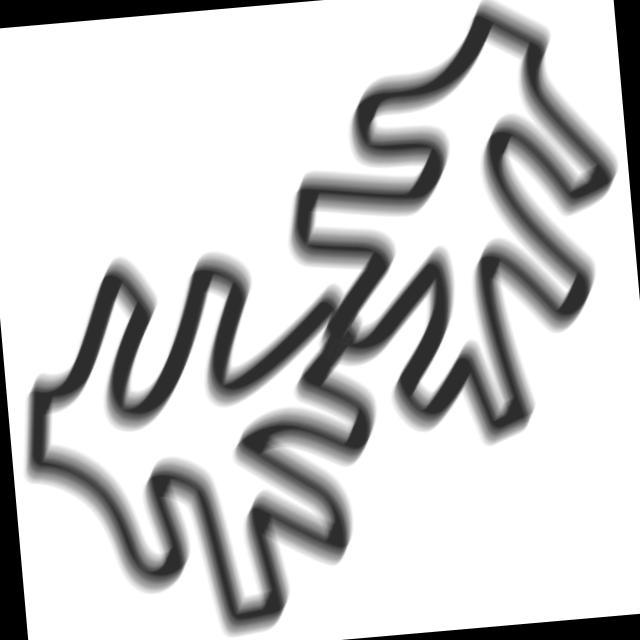coral: (261, 1, 640, 466), (1, 231, 397, 640)
